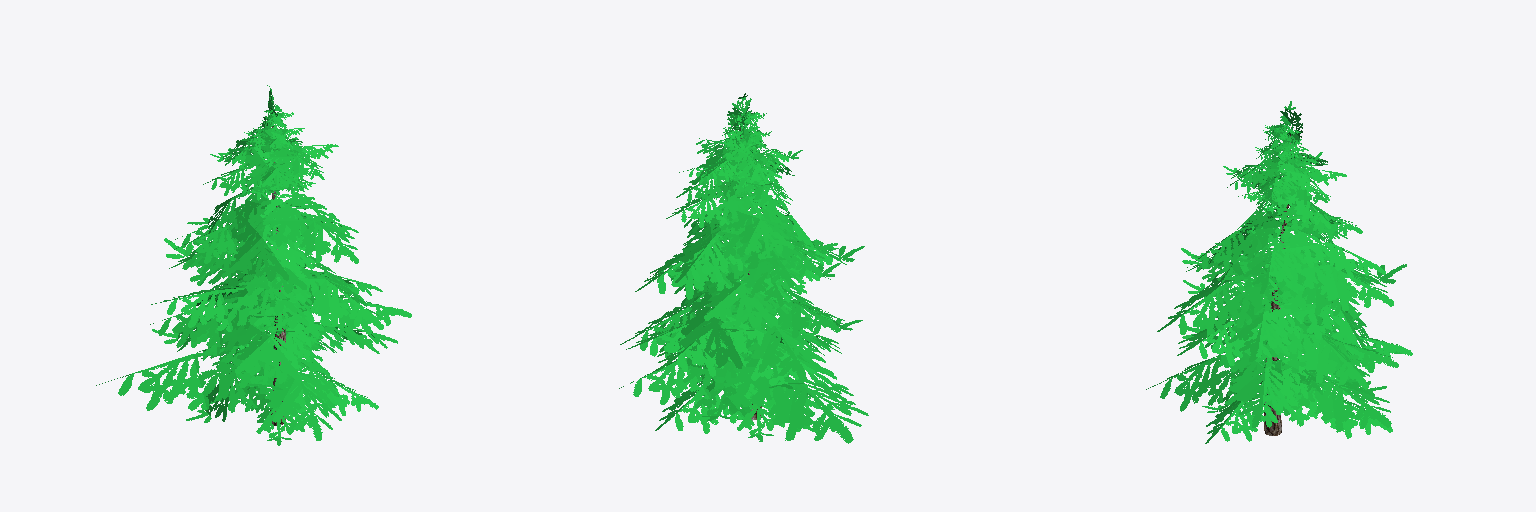
3 views of the same model, side by side, from view 1: azimuth 30°, elevation 25°; view 2: azimuth 150°, elevation 25°; view 3: azimuth 270°, elevation 25° (orthographic).
Parts seen in each view (by area): view 1: tree_pine_joined.001; view 2: tree_pine_joined.001; view 3: tree_pine_joined.001.
Boxes of the visible parts, x1,y1,x2,y2 form: tree_pine_joined.001: [96, 85, 411, 445]; tree_pine_joined.001: [619, 93, 868, 443]; tree_pine_joined.001: [1146, 101, 1412, 443].
Size of the model in its own units: 112 by 123 by 102.
2 materials, 2 textured.